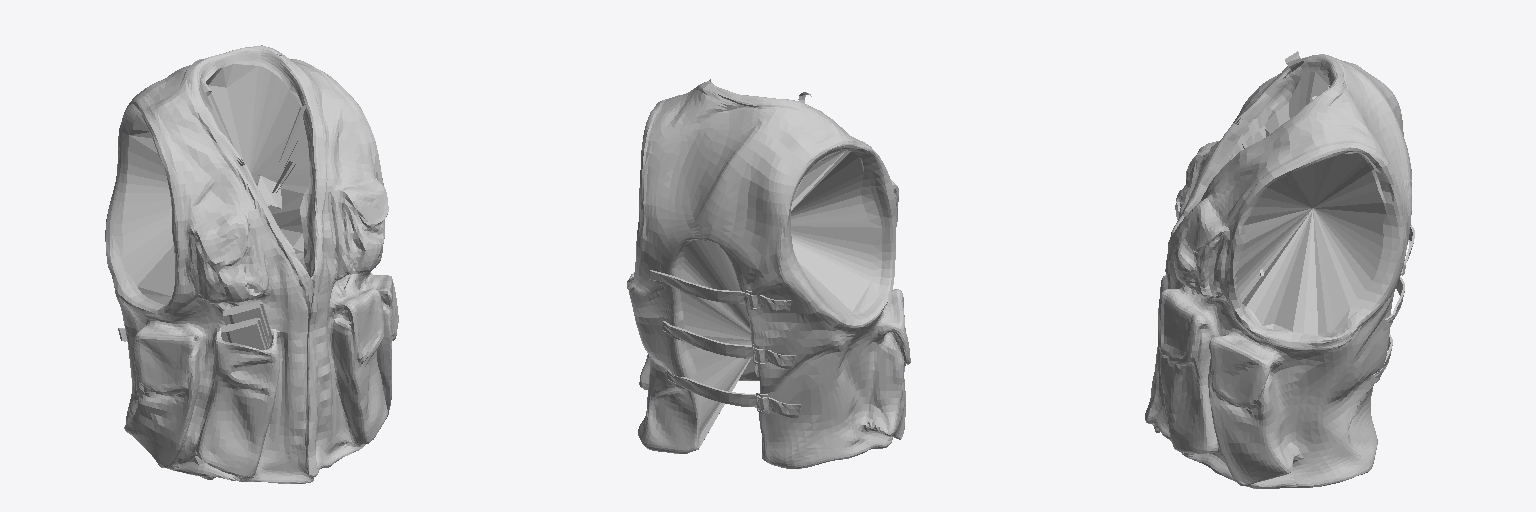
Rendered from vest.obj.
The picture shows the model from 3 angles: view 1: azimuth 30°, elevation 25°; view 2: azimuth 150°, elevation 25°; view 3: azimuth 270°, elevation 25°; orthographic projection.
Visible parts, largest first — view 1: polySurface1.001_polySurface1Shape.008; view 2: polySurface1.001_polySurface1Shape.008; view 3: polySurface1.001_polySurface1Shape.008.
Boxes of the visible parts, x1=… form: polySurface1.001_polySurface1Shape.008: x1=105, y1=45, x2=398, y2=483; polySurface1.001_polySurface1Shape.008: x1=627, y1=79, x2=910, y2=468; polySurface1.001_polySurface1Shape.008: x1=1145, y1=51, x2=1414, y2=488.
Size of the model in its own units: 1.91 by 2.57 by 1.72.